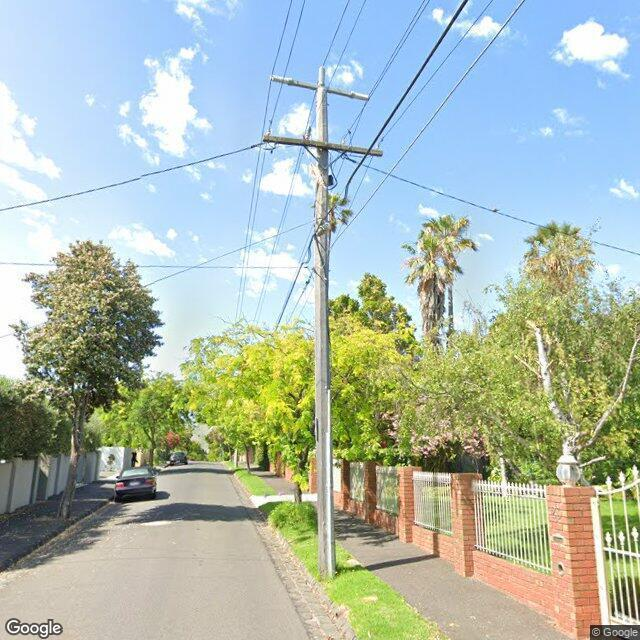HV-transmission: (270, 66, 370, 100)
crossarm: (252, 119, 385, 159), (290, 80, 350, 98)
timber-pole: (314, 87, 336, 576)
